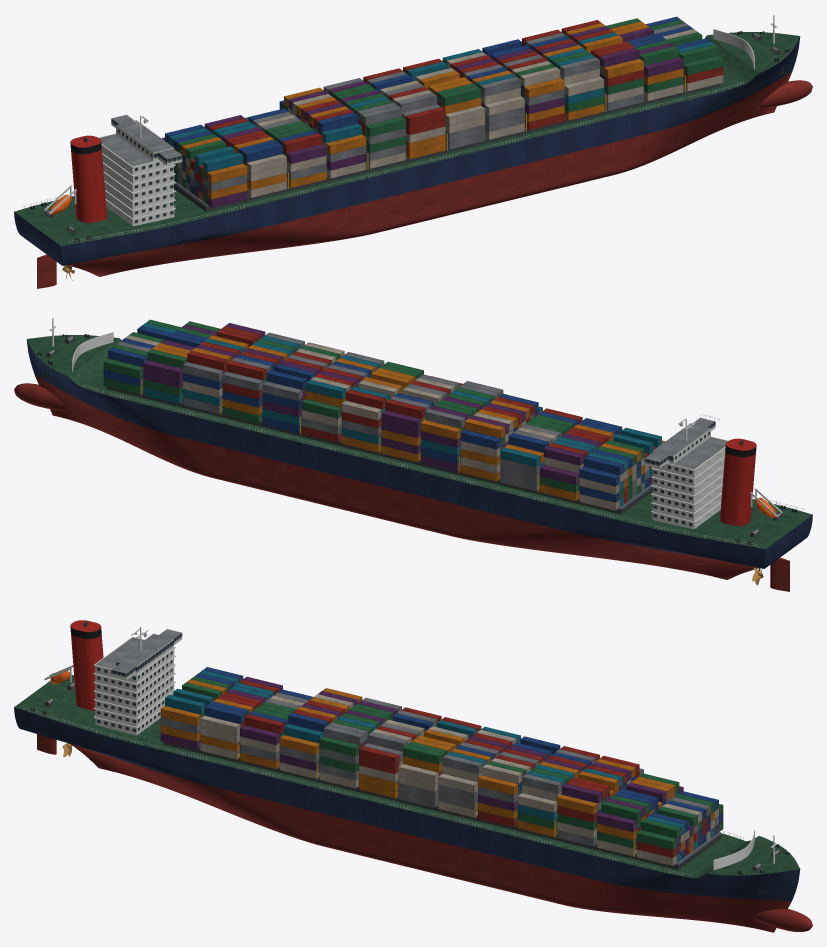
Rendered from container-ship-loaded.glb.
3 renders of one model, top to bottom at view 1: azimuth 30°, elevation 25°; view 2: azimuth 150°, elevation 25°; view 3: azimuth 330°, elevation 25°, orthographic.
Visible parts, largest first — view 1: Deck containers, Hull, Accommodation and bridge, Funnel, Hatch coamings and covers, Deck railings, Rudder; view 2: Deck containers, Hull, Accommodation and bridge, Funnel, Hatch coamings and covers, Deck railings, Rudder; view 3: Deck containers, Hull, Accommodation and bridge, Funnel, Hatch coamings and covers, Deck railings.
Boxes of the visible parts, left/top/right/bottom form: Deck containers: left=161, top=16, right=723, bottom=207; Hull: left=14, top=32, right=812, bottom=276; Accommodation and bridge: left=98, top=114, right=182, bottom=226; Funnel: left=70, top=135, right=106, bottom=222; Hatch coamings and covers: left=174, top=83, right=720, bottom=211; Deck railings: left=22, top=82, right=743, bottom=244; Rudder: left=37, top=254, right=56, bottom=288; Deck containers: left=103, top=319, right=665, bottom=510; Hull: left=14, top=335, right=812, bottom=579; Accommodation and bridge: left=644, top=417, right=728, bottom=529; Funnel: left=720, top=438, right=756, bottom=525; Hatch coamings and covers: left=106, top=386, right=652, bottom=514; Deck railings: left=83, top=385, right=804, bottom=547; Rudder: left=770, top=557, right=789, bottom=591; Deck containers: left=160, top=667, right=723, bottom=865; Hull: left=14, top=675, right=812, bottom=932; Accommodation and bridge: left=93, top=629, right=182, bottom=735; Funnel: left=70, top=620, right=103, bottom=710; Hatch coamings and covers: left=163, top=742, right=720, bottom=869; Deck railings: left=22, top=672, right=743, bottom=875.
Size of the model in its own units: 262 by 49 by 32.65.
22 materials, 22 textured.
